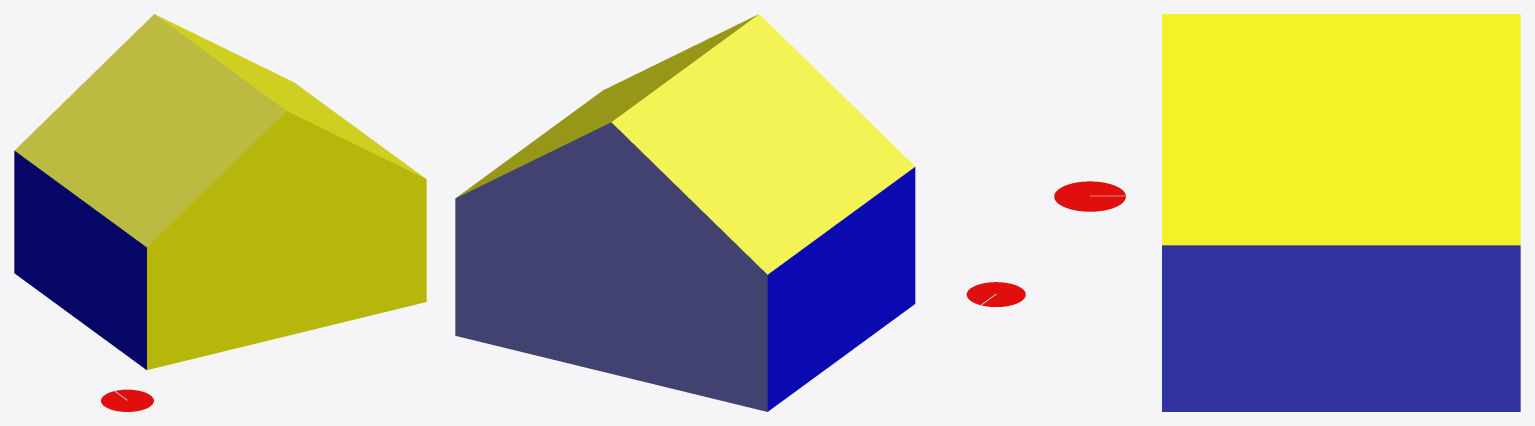
The model's file is result.glb.
3 renders of one model, left to right at view 1: azimuth 30°, elevation 25°; view 2: azimuth 150°, elevation 25°; view 3: azimuth 270°, elevation 25°, orthographic. The views are drawn at different scales.
Visible parts, largest first — view 1: 742d283c-60b2-4083-a88f-17ae0f425883__undefined, 93df1c6e-10e0-4a6d-92fa-138f20044f5b__undefined, 7ca4bdda-0c13-4bc7-9049-49d3a61d7669__undefined, 0479fcd7-0f1c-4871-a786-c385f6dae2c2__undefined, c6eb723c-a147-4d28-91db-bde263ac0c56__Circle; view 2: 7d2faf17-9a63-497b-9d97-5740a76de822__undefined, 93df1c6e-10e0-4a6d-92fa-138f20044f5b__undefined, 7ca4bdda-0c13-4bc7-9049-49d3a61d7669__undefined, 0479fcd7-0f1c-4871-a786-c385f6dae2c2__undefined, c6eb723c-a147-4d28-91db-bde263ac0c56__Circle; view 3: 0479fcd7-0f1c-4871-a786-c385f6dae2c2__undefined, 69e24070-6a1e-4969-9c95-5493500913cf__undefined, c6eb723c-a147-4d28-91db-bde263ac0c56__Circle.
Boxes of the visible parts, bbox=[...] form: 742d283c-60b2-4083-a88f-17ae0f425883__undefined: bbox=[147, 111, 426, 369]; 93df1c6e-10e0-4a6d-92fa-138f20044f5b__undefined: bbox=[14, 14, 286, 247]; 7ca4bdda-0c13-4bc7-9049-49d3a61d7669__undefined: bbox=[14, 151, 146, 369]; 0479fcd7-0f1c-4871-a786-c385f6dae2c2__undefined: bbox=[155, 14, 425, 178]; c6eb723c-a147-4d28-91db-bde263ac0c56__Circle: bbox=[101, 389, 153, 411]; 7d2faf17-9a63-497b-9d97-5740a76de822__undefined: bbox=[455, 122, 767, 411]; 93df1c6e-10e0-4a6d-92fa-138f20044f5b__undefined: bbox=[611, 14, 914, 274]; 7ca4bdda-0c13-4bc7-9049-49d3a61d7669__undefined: bbox=[767, 167, 915, 411]; 0479fcd7-0f1c-4871-a786-c385f6dae2c2__undefined: bbox=[456, 15, 757, 197]; c6eb723c-a147-4d28-91db-bde263ac0c56__Circle: bbox=[966, 282, 1025, 306]; 0479fcd7-0f1c-4871-a786-c385f6dae2c2__undefined: bbox=[1162, 14, 1520, 245]; 69e24070-6a1e-4969-9c95-5493500913cf__undefined: bbox=[1162, 245, 1520, 411]; c6eb723c-a147-4d28-91db-bde263ac0c56__Circle: bbox=[1054, 181, 1125, 211].
Bounding box in the file's own units: 760 × 469 × 650.
